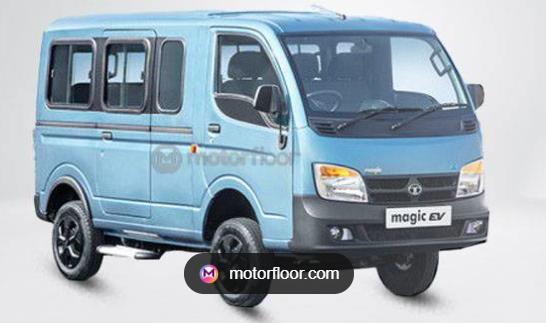van: (27, 6, 512, 310)
